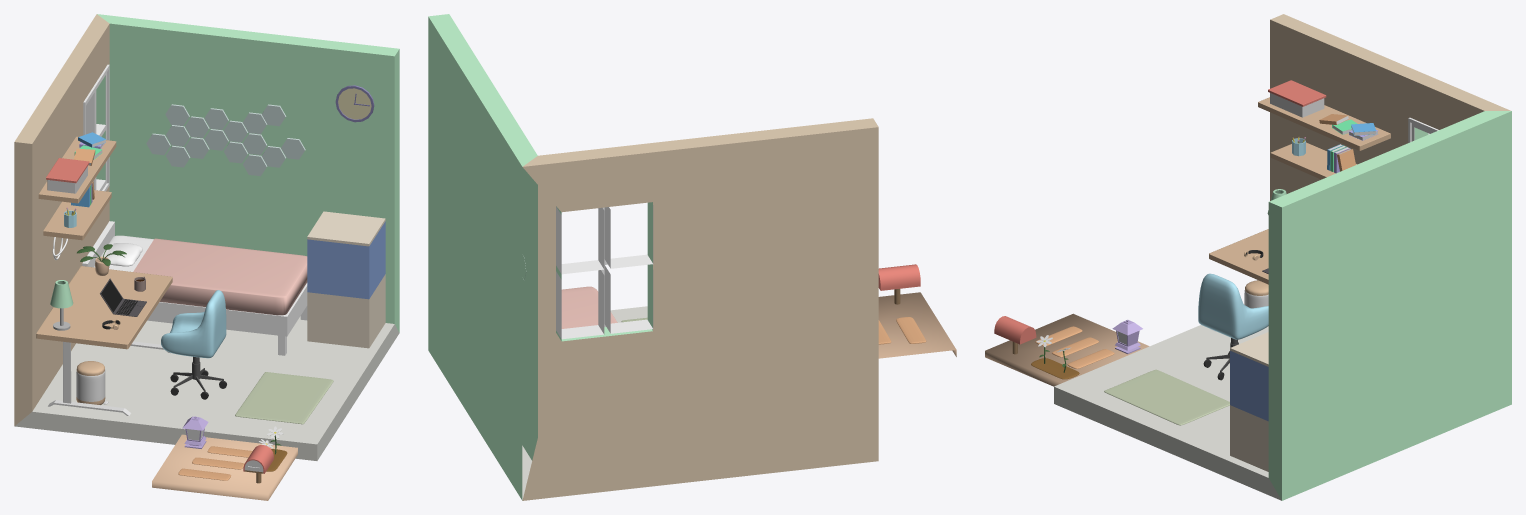
File: room_2.glb
The picture shows the model from 3 angles, left to right: view 1: azimuth 30°, elevation 25°; view 2: azimuth 150°, elevation 25°; view 3: azimuth 270°, elevation 25°; orthographic projection. The views are drawn at different scales.
Parts seen in each view (by area): view 1: roomcube, Cube.019, Cube, Cube.018, roomcube.001, tank, Plane.010, Cube.016, Cube.007, Cube.015, Plane, Cube.009 (+14 smaller); view 2: roomcube, Plane, roomcube.001, Cube.019, Cylinder.030; view 3: roomcube, roomcube.001, Plane.010, Cube.007, Cube.018, tank, Cube, Cube.009, box, Cube.015, Cylinder.030, Cube.012 (+2 smaller).
Part boxes in pixels (box(x1,y1,x2,y2)): roomcube: box(14, 14, 399, 460); Cube.019: box(133, 238, 307, 315); Cube: box(36, 266, 172, 349); Cube.018: box(307, 211, 385, 348); roomcube.001: box(152, 434, 297, 500); tank: box(307, 221, 385, 299); Plane.010: box(235, 372, 333, 424); Cube.016: box(82, 221, 307, 336); Cube.007: box(161, 290, 226, 358); Cube.015: box(43, 190, 111, 240); Plane: box(83, 64, 109, 191); Cube.009: box(38, 136, 116, 203); roomcube: box(428, 14, 878, 500); Plane: box(556, 205, 653, 339); roomcube.001: box(878, 292, 956, 358); Cube.019: box(561, 286, 617, 328); Cylinder.030: box(878, 264, 920, 290); roomcube: box(1054, 14, 1511, 500); roomcube.001: box(985, 313, 1149, 386); Plane.010: box(1104, 369, 1229, 425); Cube.007: box(1198, 273, 1268, 339); Cube.018: box(1230, 332, 1268, 471); tank: box(1230, 350, 1268, 421); Cube: box(1209, 229, 1268, 284); Cube.009: box(1258, 97, 1390, 150); box: box(1268, 80, 1326, 117); Cube.015: box(1270, 142, 1357, 179); Cylinder.030: box(994, 316, 1036, 344); Cube.012: box(1327, 144, 1355, 173).
Bounding box in the file's own units: 14.61 × 10.33 × 16.81.
